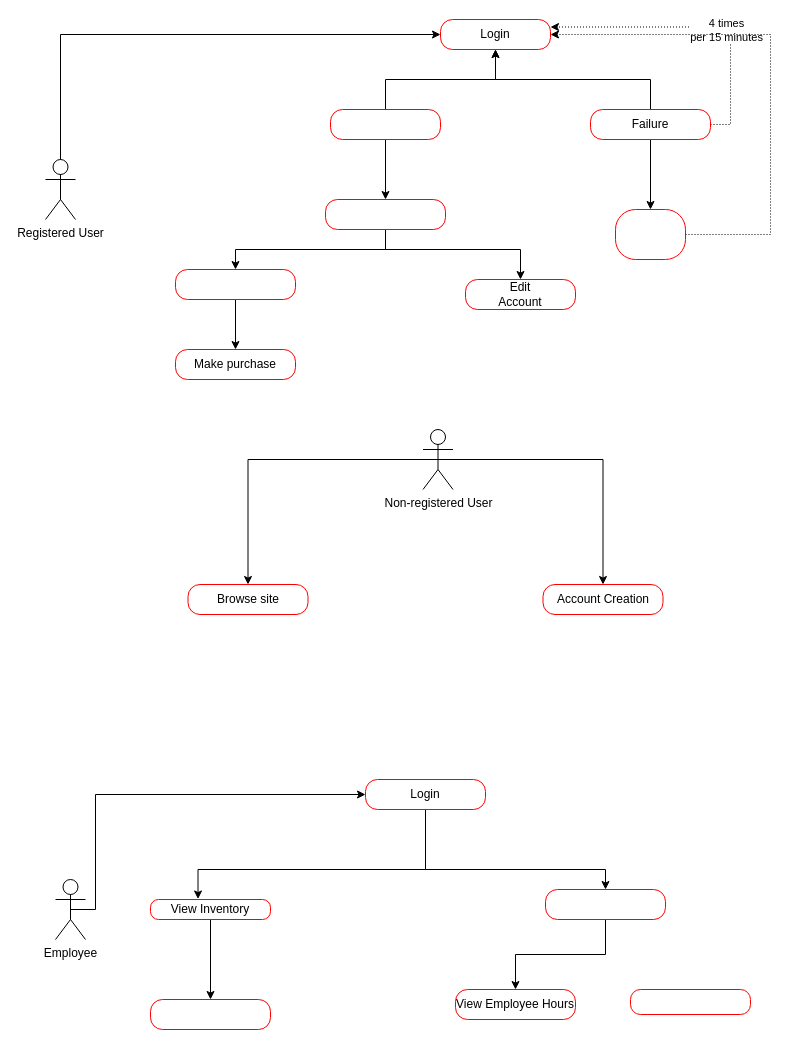
Image size: 796x1047. Some labels were removed from this diagram. The centre of each missing label's shape, as x and y in pixels:
"Account Lockout for 3 hours" goes at point 650,234.
"Make Orders" goes at point 210,1014.
"Profile" goes at point 385,214.
"Shop" goes at point 235,284.
"Success" goes at point 385,124.
"View Schedule" goes at point 605,904.
